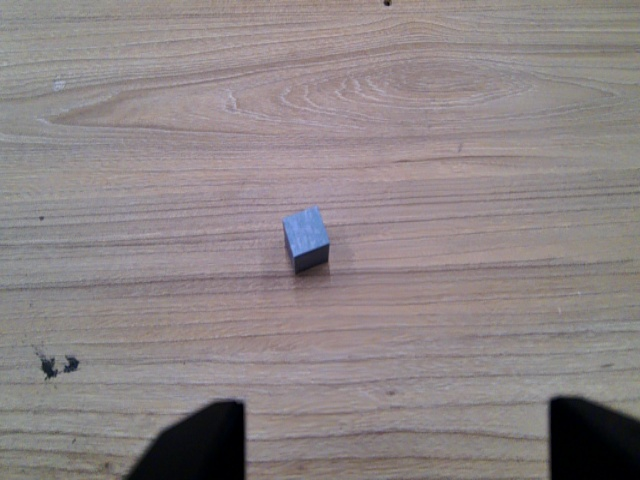stone: (279, 206, 331, 276)
